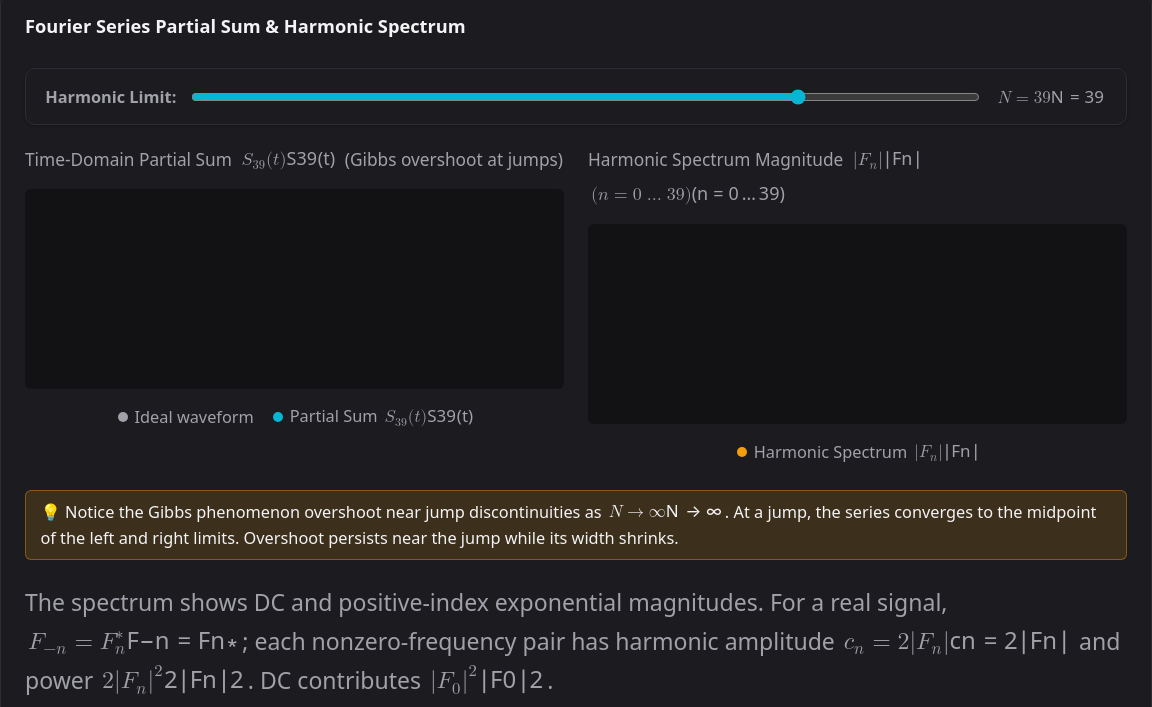
Scenario: FourierSeriesCanvas › uses threshold-safe Parseval labels and semantic metric layouts
The width and height of the screenshot is (1152, 707).
Set the slider labelled "Harmonic Limit:" to "41": (830, 97) [191,89,980,105]
(page scrolled)
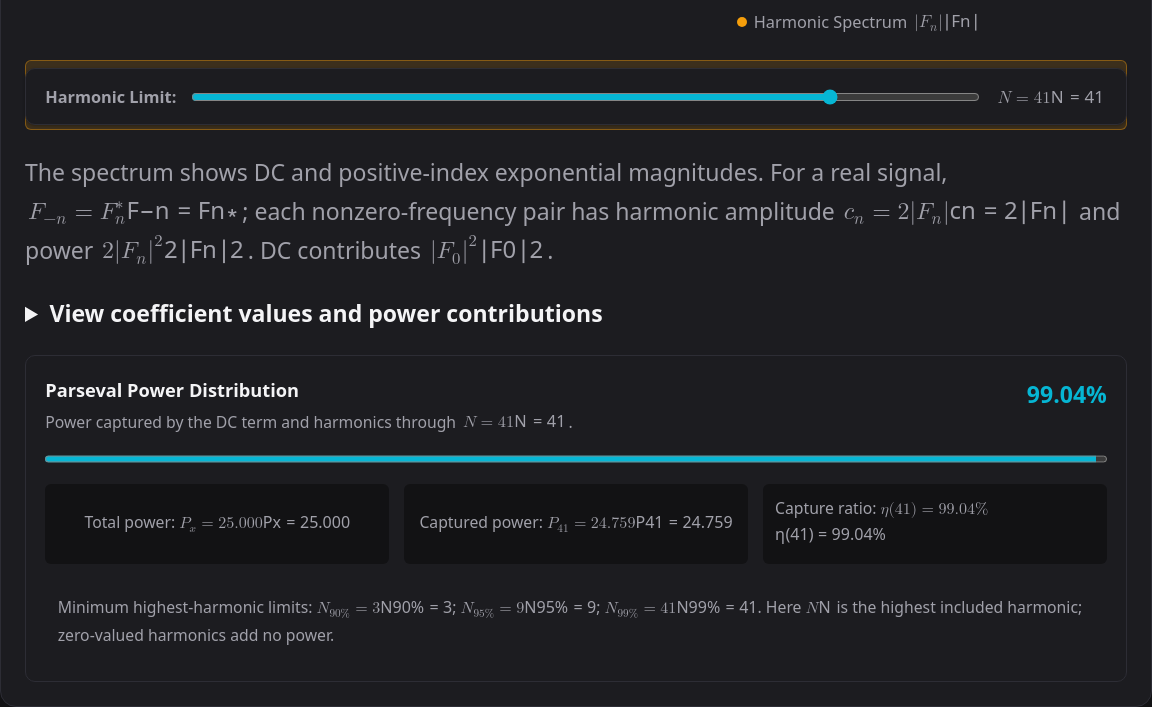
Now the text with class "capture-ratio" reads "99.04%", box [1027,378,1107,410]
